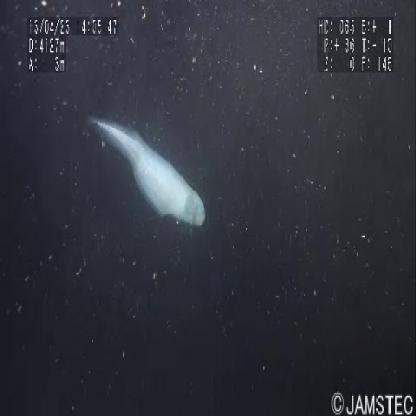Bio: (84, 110, 207, 234)
